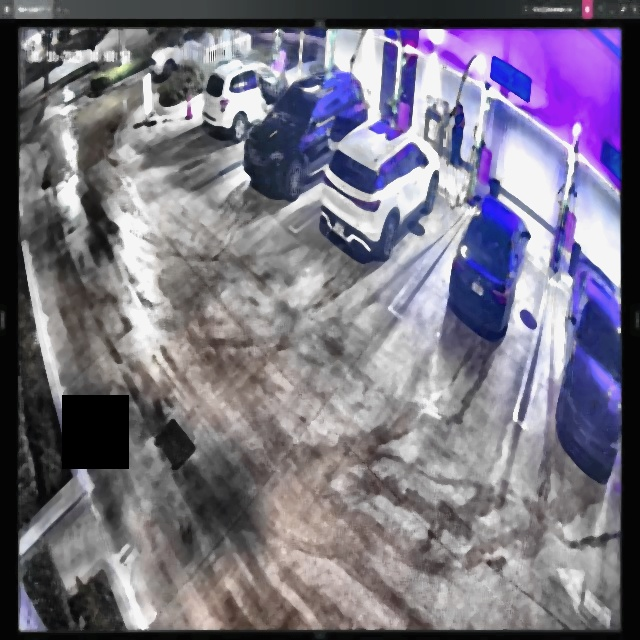Car: (320, 117, 440, 258), (245, 71, 367, 193), (447, 195, 530, 334)
